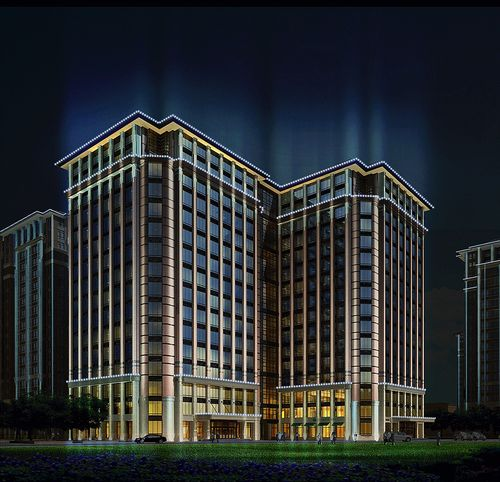buildings: (50, 111, 488, 442)
